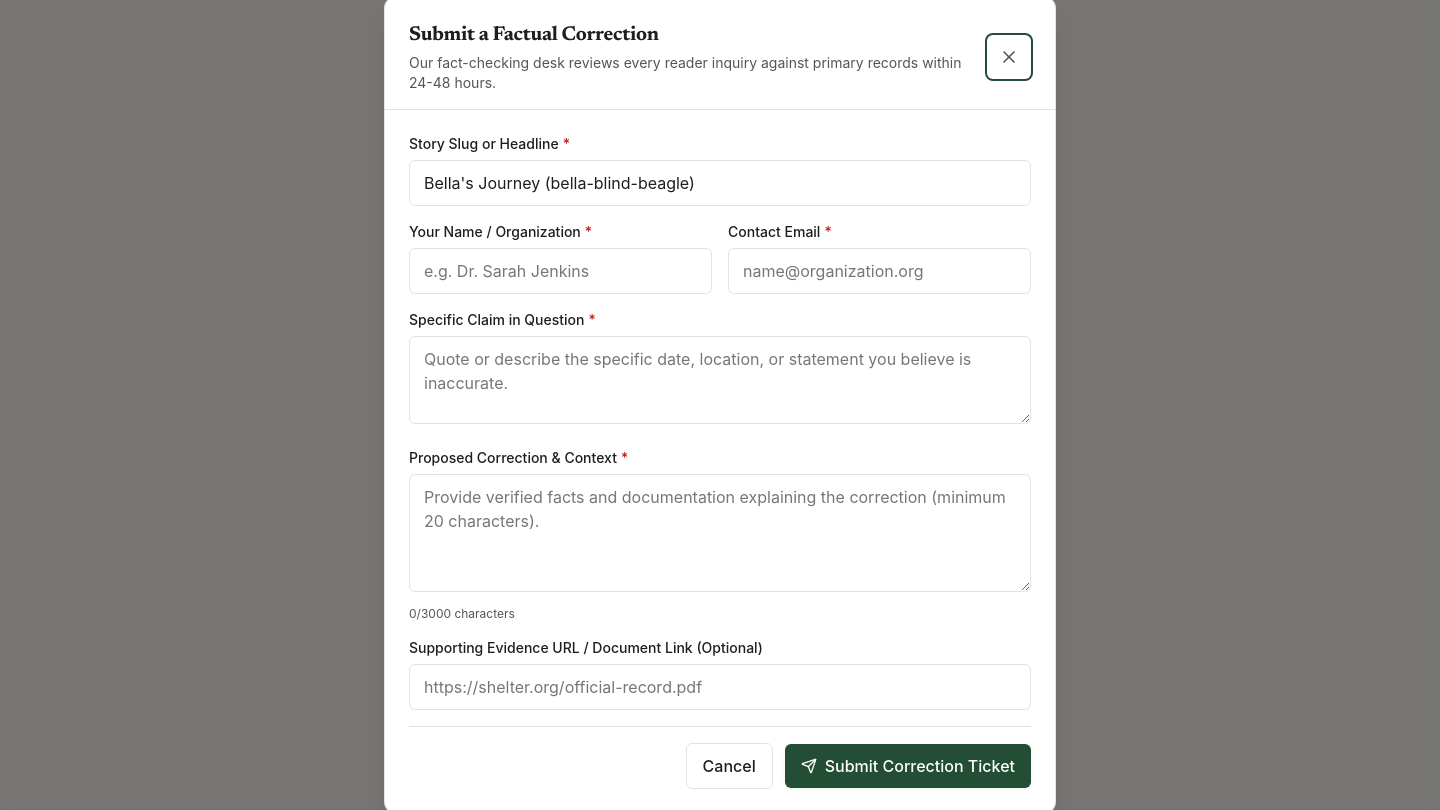
Scenario: Trust & Fact-Checking UI Components (F09, F10) › CorrectionModal Component › renders when isOpen is true and validates required fields
Expected: the heading "Submit a Factual Correction" is shown, [409, 25, 659, 45]
Click the button "Submit Correction Ticket" at point(908, 766), box [785, 744, 1031, 788]
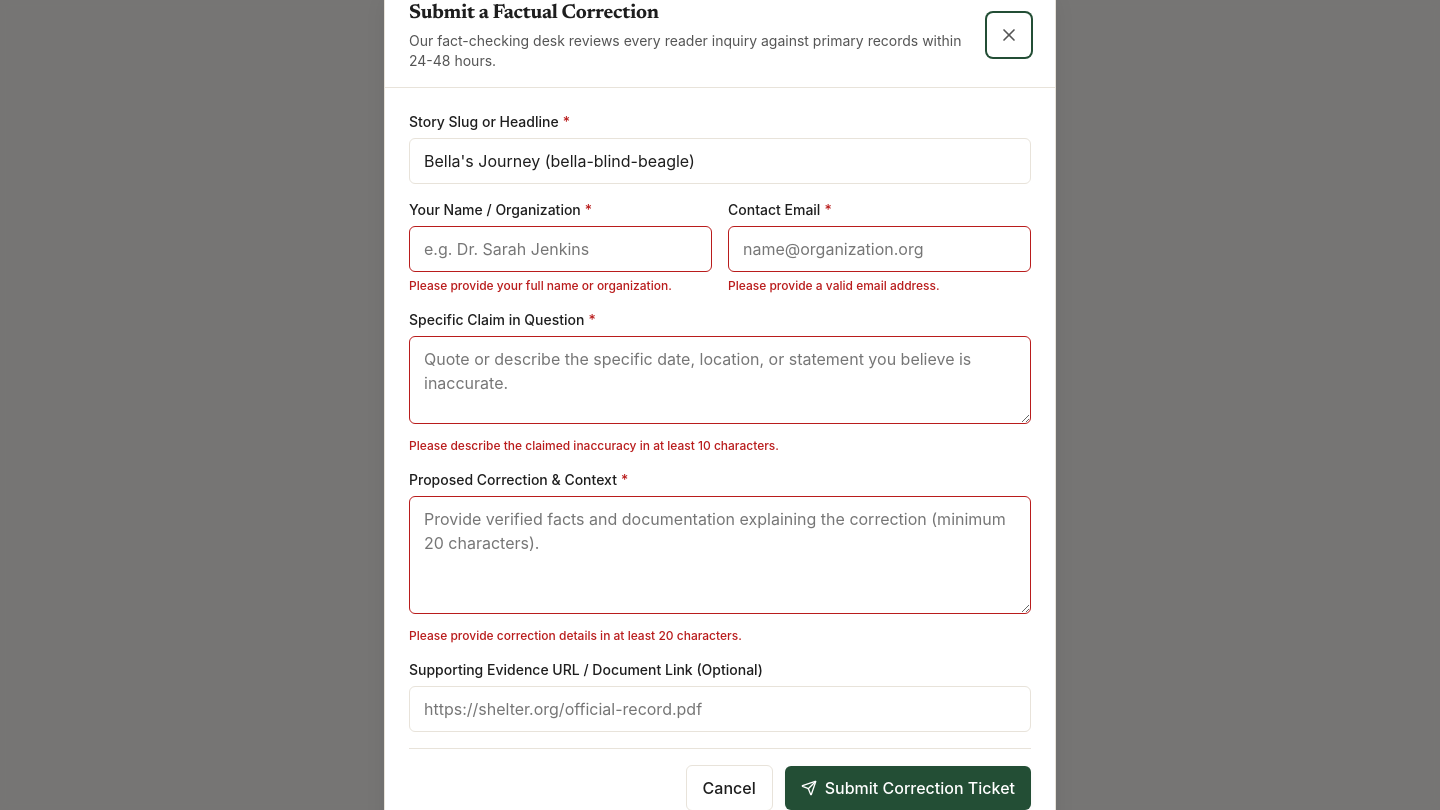
Expected: the text "Please provide your full name or organization." is shown, [409, 278, 712, 294]
Expected: the text "Please provide a valid email address." is shown, [728, 278, 940, 293]
